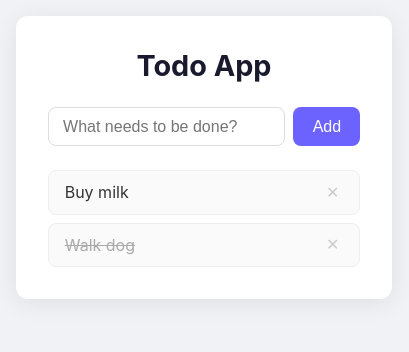
App — deleting a todo › shows an error when the DELETE request fails
Expected: the text "Buy milk" is shown, [65, 182, 129, 202]
Click the button named "delete".
click(333, 192)  # box [322, 183, 343, 202]
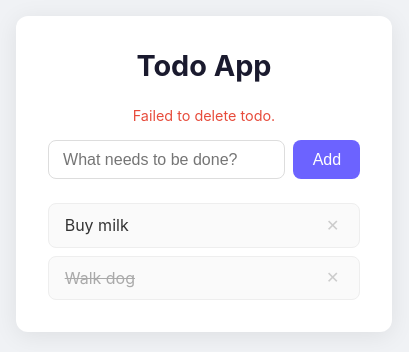
Expected: the text "Failed to delete todo." is shown, [133, 107, 275, 124]
